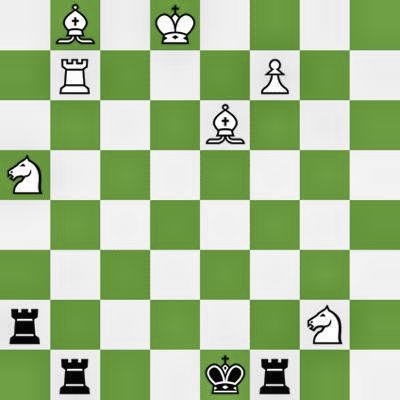black-king: (200, 350, 250, 400)
black-rook: (0, 300, 50, 350), (50, 350, 100, 400), (250, 350, 300, 400)
white-bishop: (50, 0, 100, 50), (200, 100, 250, 150)
white-king: (150, 0, 200, 50)
white-knight: (0, 150, 50, 200), (300, 300, 350, 350)
white-pawn: (250, 50, 300, 100)
white-rook: (50, 50, 100, 100)
